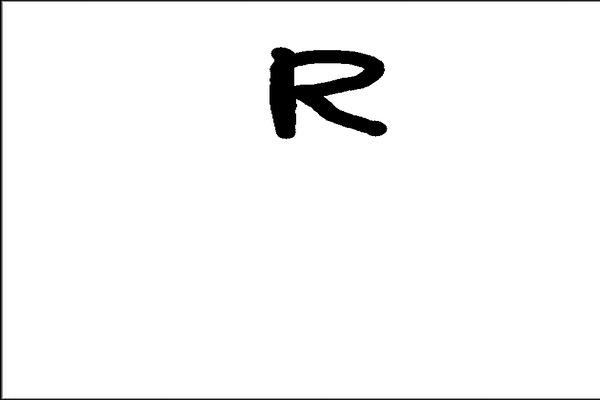R: (263, 39, 396, 145)
